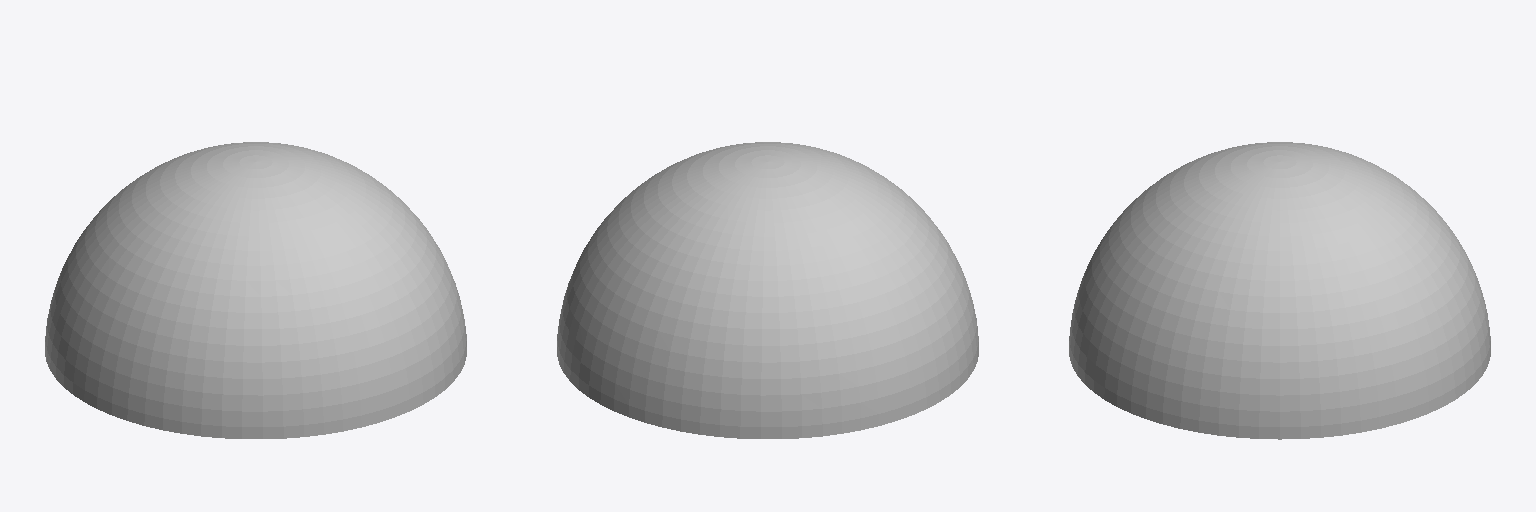
Rendered from halfsphere_h_6cm.obj.
3 renders of one model, left to right at view 1: azimuth 30°, elevation 25°; view 2: azimuth 150°, elevation 25°; view 3: azimuth 270°, elevation 25°, orthographic.
Parts seen in each view (by area): view 1: halfsphere_0.6cm_Sphere.003; view 2: halfsphere_0.6cm_Sphere.003; view 3: halfsphere_0.6cm_Sphere.003.
Part boxes in pixels (x1,y1,x2,y2): halfsphere_0.6cm_Sphere.003: (45, 142, 466, 438); halfsphere_0.6cm_Sphere.003: (557, 142, 978, 438); halfsphere_0.6cm_Sphere.003: (1069, 142, 1490, 439).
Size of the model in its own units: 0.1199 by 0.059 by 0.1199.